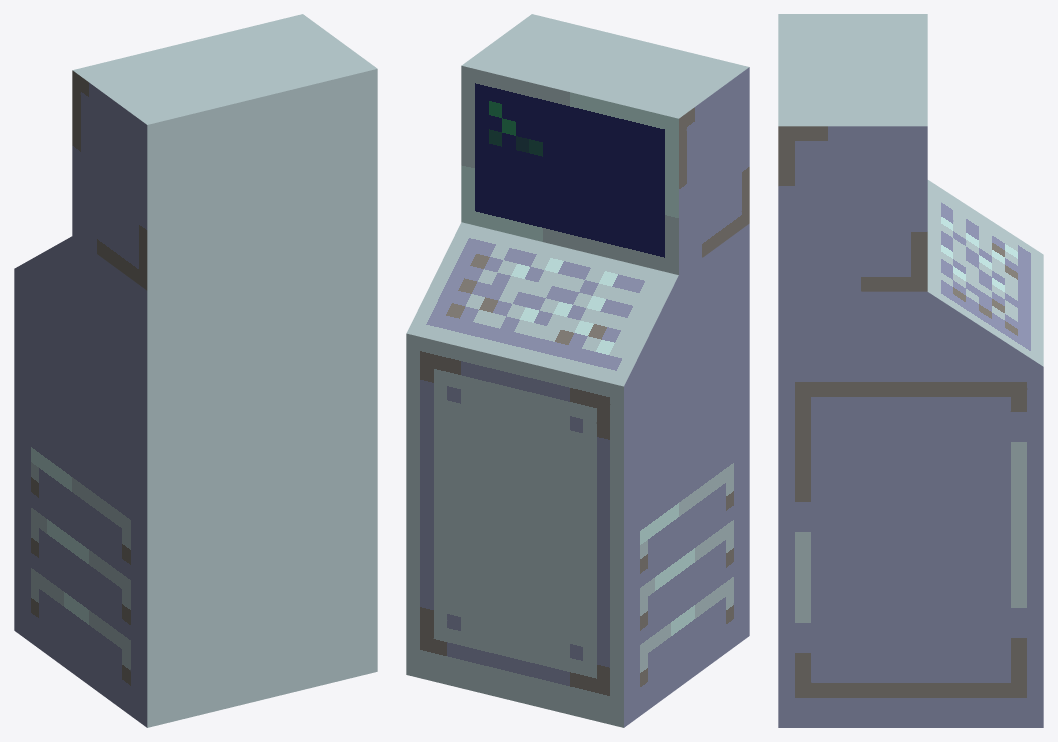
Rendered from terminal.gltf.
3 views of the same model, side by side, from view 1: azimuth 30°, elevation 25°; view 2: azimuth 150°, elevation 25°; view 3: azimuth 270°, elevation 25° (orthographic). The views are drawn at different scales.
Parts seen in each view (by area): view 1: cuboid; view 2: cuboid; view 3: cuboid.
Part boxes in pixels (x1,y1,x2,y2): cuboid: (14,14,377,727); cuboid: (406,14,749,727); cuboid: (778,14,1043,727).
Size of the model in its own units: 1 by 2.5 by 1.
Materials: 1 (1 with a texture image).
